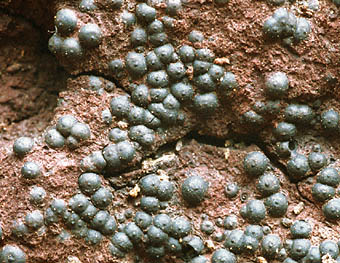pudricion radicular: (36, 2, 338, 253)
